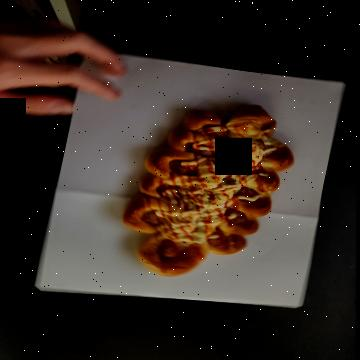pizza_bread: (109, 67, 283, 242)
